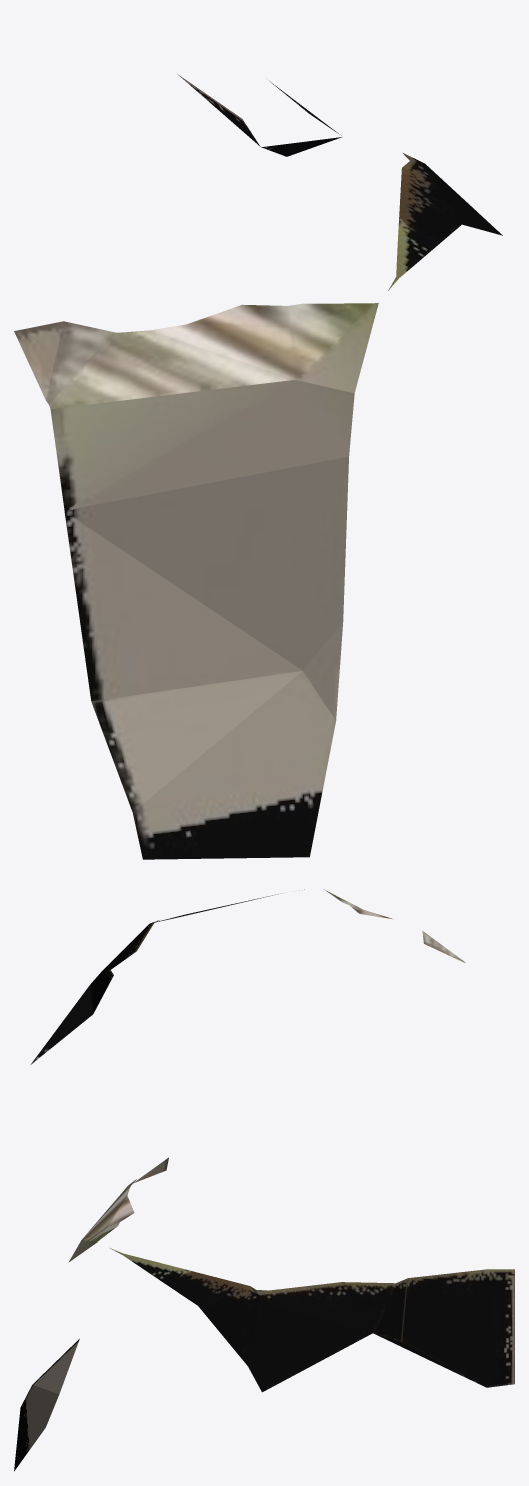
3 renders of one model, top to bottom at view 1: azimuth 30°, elevation 25°; view 2: azimuth 150°, elevation 25°; view 3: azimuth 270°, elevation 25°, orthographic. The views are drawn at different scales.
Bounding box in the file's own units: 2.42 × 1.86 × 3.13.
Materials: 1 (1 with a texture image).
